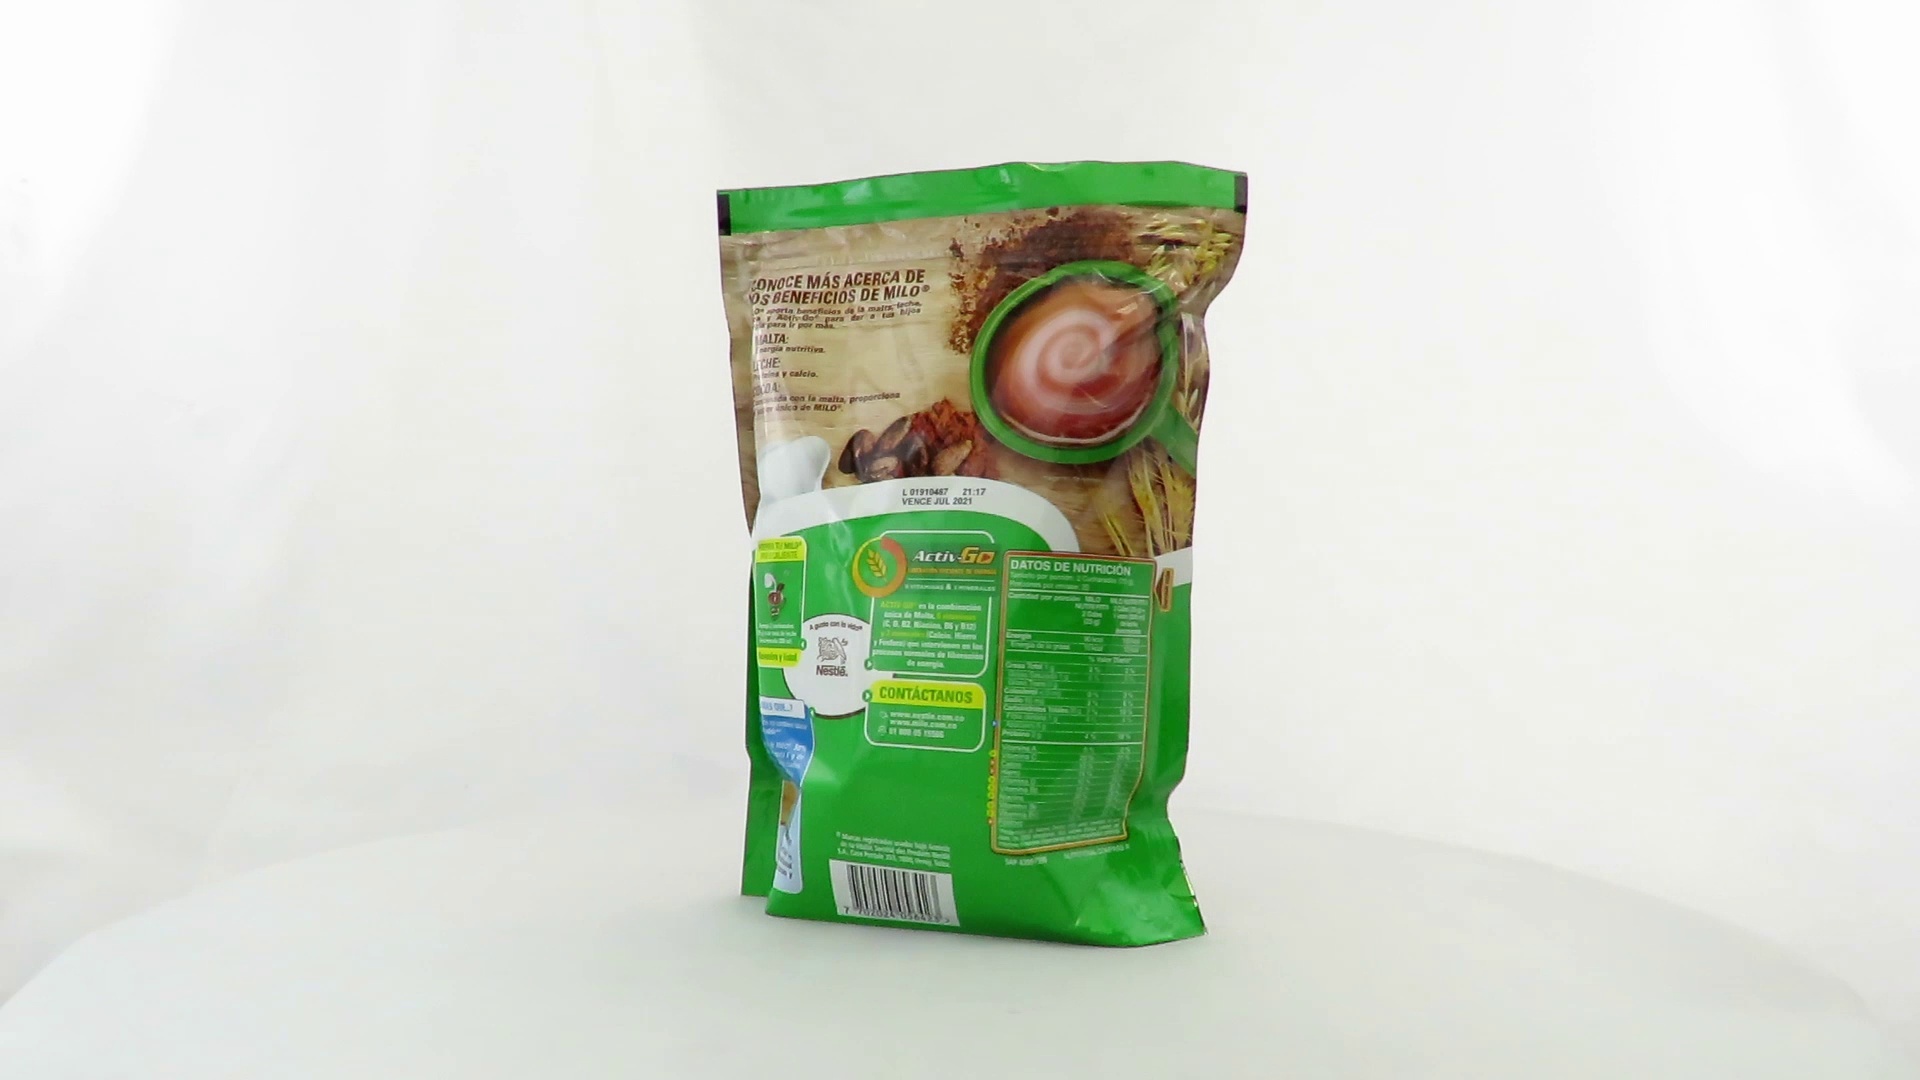COL0170205DYP50000: (711, 156, 1254, 955)
